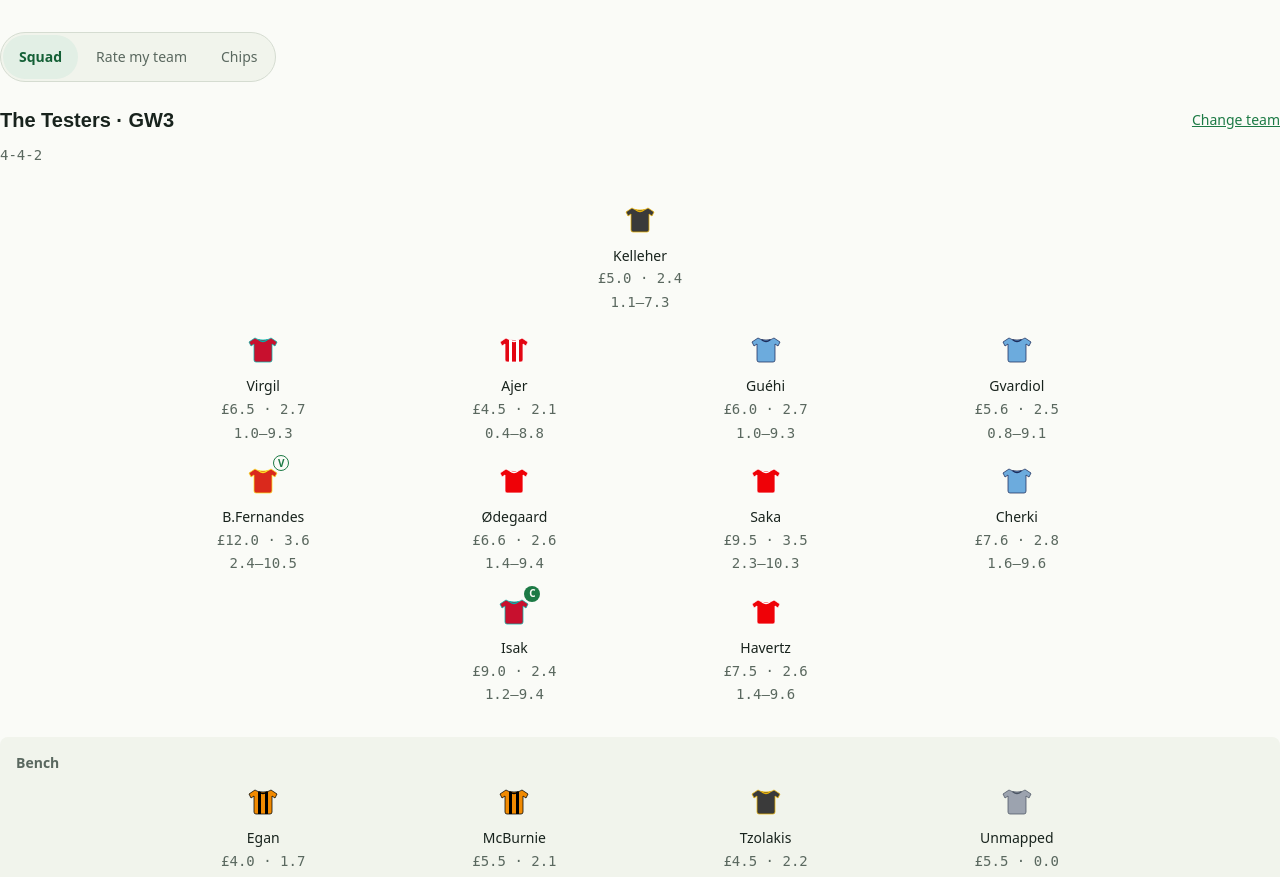
RateTab lazy-fetch integration (03-02 Task 3: D-20 on-demand) › Change team clears ?entry= and returns the Squad tab to the model squad view
Check: the heading "The Testers · GW3" is shown, box [0, 108, 174, 132]
Click the button "Change team".
click(1236, 120)  # box [1192, 98, 1279, 142]
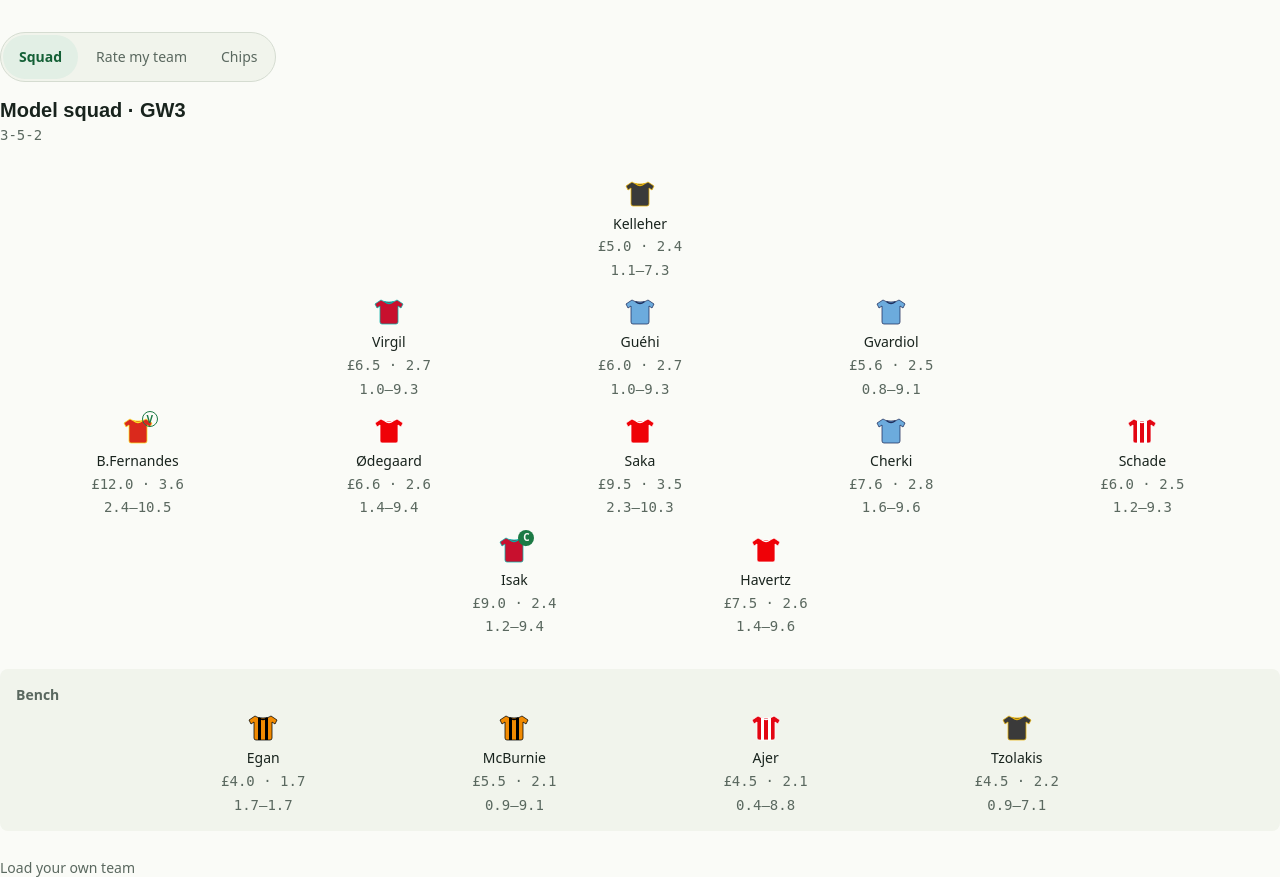
Check: the heading "Model squad · GW3" is shown, box [0, 99, 186, 121]
